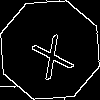X: (25, 25, 75, 81)
